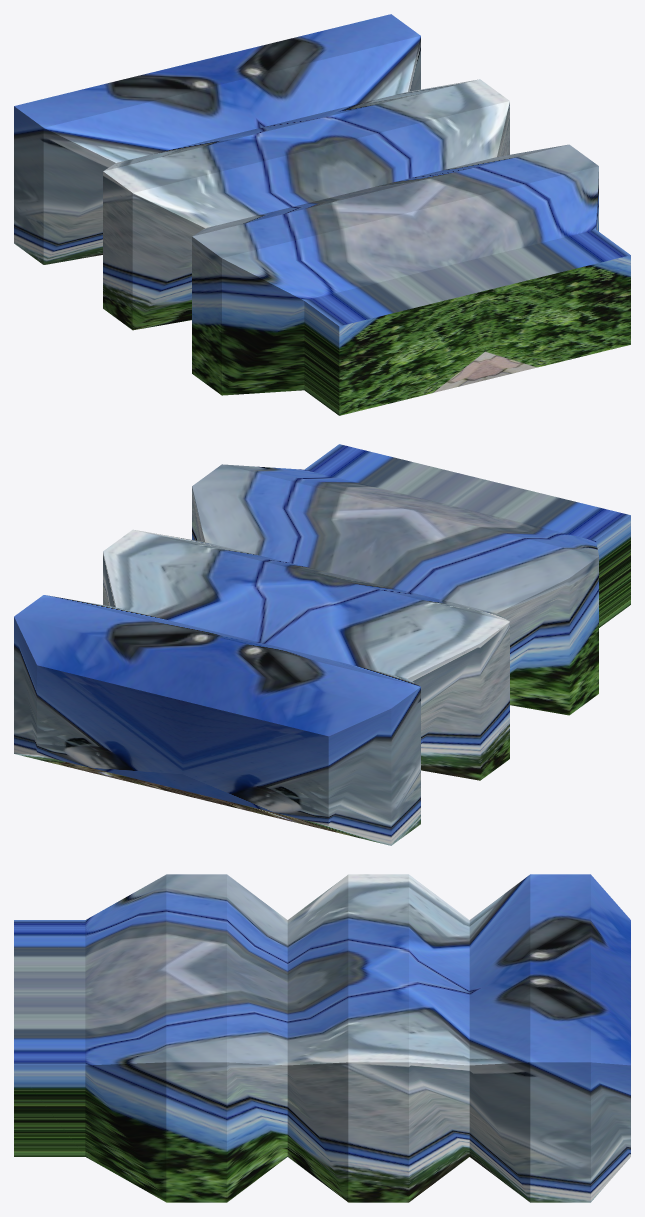
3 views of the same model, one above another, from view 1: azimuth 30°, elevation 25°; view 2: azimuth 150°, elevation 25°; view 3: azimuth 270°, elevation 25° (orthographic). The views are drawn at different scales.
Visible parts, largest first — view 1: Body-3.003_Cube.036; view 2: Body-3.003_Cube.036; view 3: Body-3.003_Cube.036.
Part boxes in pixels (x1,y1,x2,y2): Body-3.003_Cube.036: (14,14,630,415); Body-3.003_Cube.036: (14,444,630,845); Body-3.003_Cube.036: (14,874,630,1202).
Bounding box in the file's own units: 9.94 × 3.46 × 13.79.
